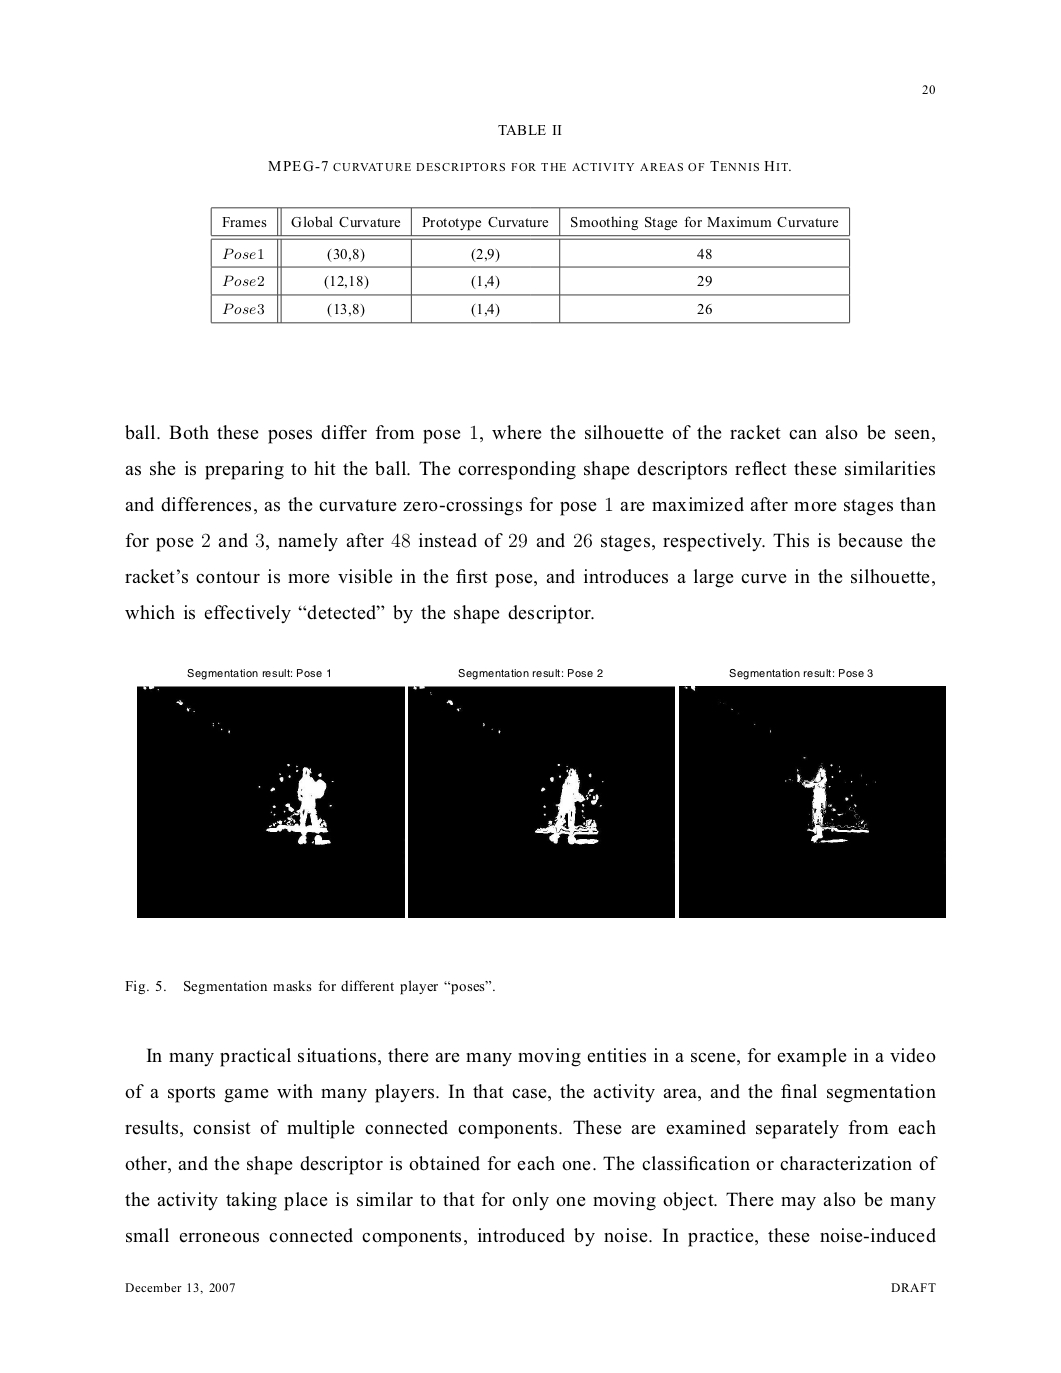Table: (210, 205, 850, 324)
figure: (137, 686, 403, 917), (408, 686, 674, 917), (679, 686, 945, 917)
